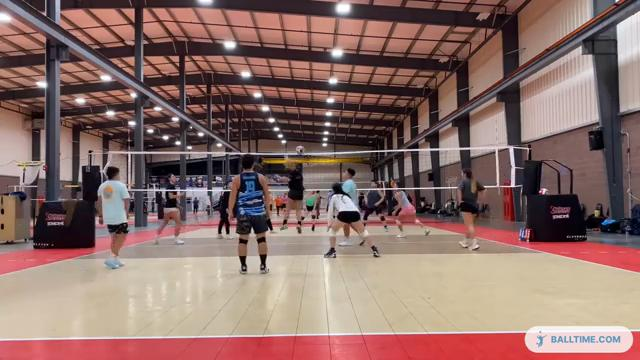Attack: (279, 150, 306, 234)
Player: (229, 154, 270, 273), (324, 183, 379, 257), (98, 166, 129, 268), (457, 169, 484, 249), (154, 174, 184, 244), (392, 182, 429, 237), (363, 181, 388, 230), (342, 168, 358, 210), (218, 184, 230, 238), (304, 191, 317, 230), (192, 197, 199, 214)
ball: (295, 145, 306, 154)
